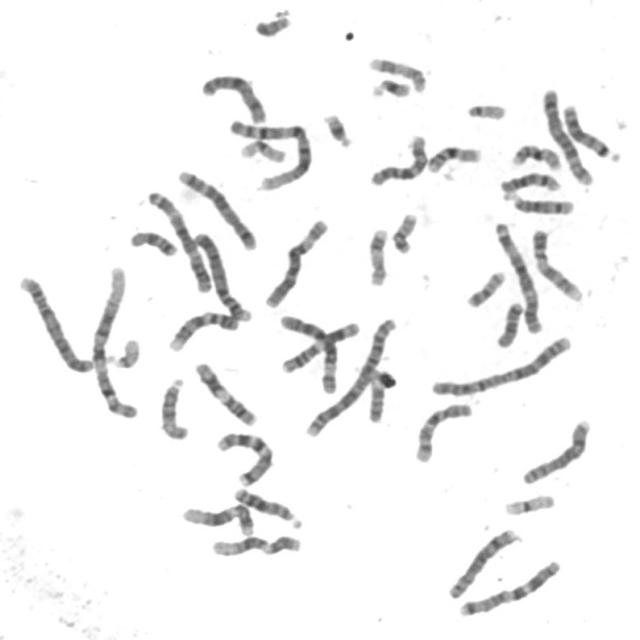A1: (85, 261, 140, 422), (224, 114, 314, 191)
A2: (300, 314, 400, 438), (424, 329, 574, 399)
A3: (141, 184, 214, 294), (489, 216, 546, 336)
B4: (14, 270, 95, 375), (188, 226, 253, 324)
B5: (172, 163, 258, 252), (538, 84, 596, 186)
C10: (408, 397, 474, 464), (364, 128, 430, 188)
C11: (188, 356, 258, 428), (276, 316, 362, 374)
C12: (177, 499, 257, 537), (205, 529, 304, 559)
C6: (259, 212, 331, 310), (274, 308, 340, 396)
C7: (453, 554, 563, 618), (210, 425, 276, 488)
C8: (442, 522, 520, 601), (517, 413, 593, 487)
C9: (526, 224, 586, 303), (163, 304, 242, 354)
D13: (557, 98, 624, 164), (229, 481, 305, 529)
D14: (500, 187, 576, 216), (494, 167, 564, 197)
D15: (154, 372, 191, 442), (357, 365, 385, 424)
E16: (422, 139, 484, 174), (506, 138, 564, 172)
E17: (363, 51, 429, 93), (362, 222, 390, 289)
E18: (490, 296, 526, 349), (124, 225, 180, 258)
F19: (233, 134, 289, 164), (498, 489, 557, 517)
F20: (461, 265, 509, 309), (386, 207, 420, 255)
G21: (318, 108, 356, 150), (366, 73, 413, 99)
G22: (103, 333, 143, 370), (461, 97, 509, 121)
X: (196, 68, 268, 124)
Y: (249, 8, 293, 38)
